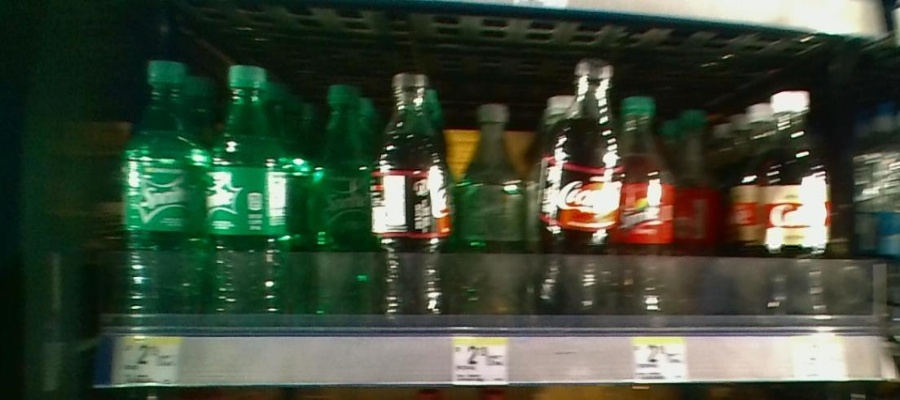bottle: (116, 52, 210, 328), (538, 57, 623, 315), (213, 59, 293, 330), (371, 71, 451, 322), (753, 86, 829, 317), (305, 71, 369, 326), (455, 90, 526, 316), (624, 89, 672, 316), (673, 98, 714, 313)
